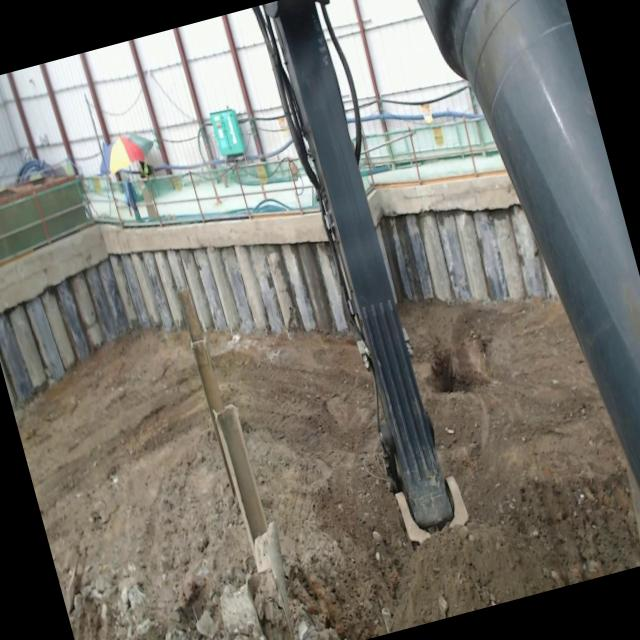cement: (0, 209, 326, 310), (368, 169, 519, 223)
red-sand: (207, 300, 640, 640), (15, 330, 253, 640)
rocks: (81, 523, 288, 640)
